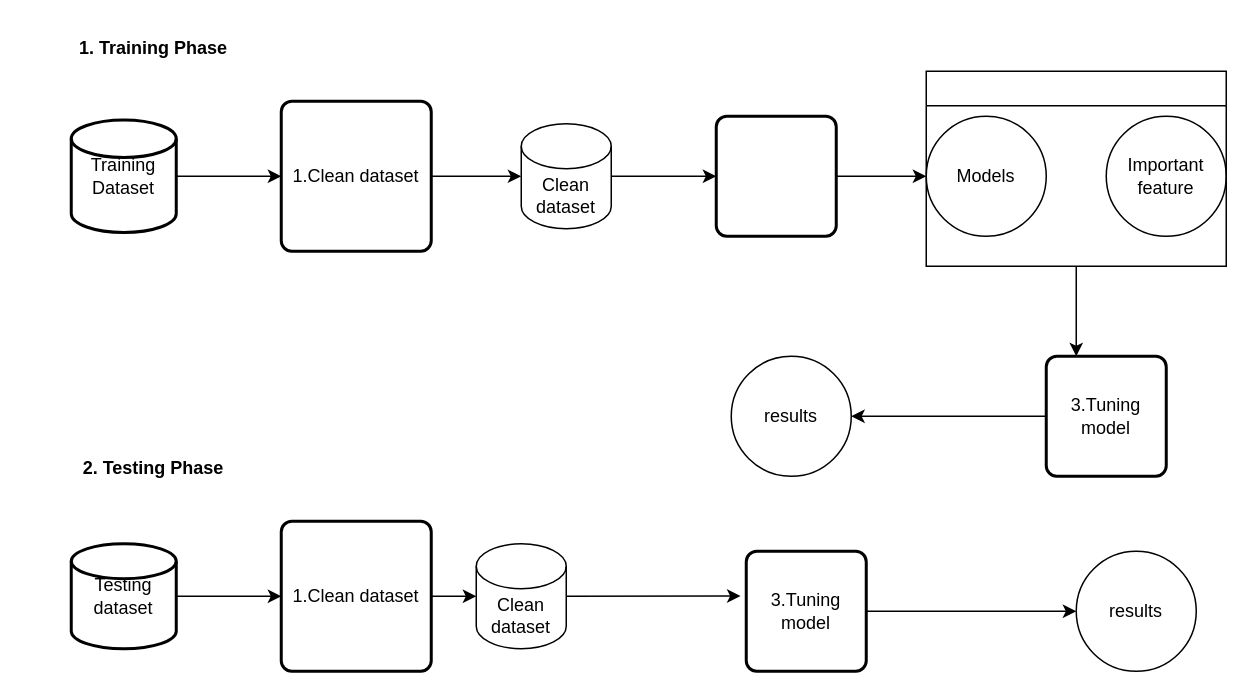
Image size: 1253x698. Some labels were removed from this diagram. The centre of each missing label's shape, as x and y in pixels:
"2. Build model" goes at (x=775, y=175).
"Tmp output" goes at (x=1075, y=168).
